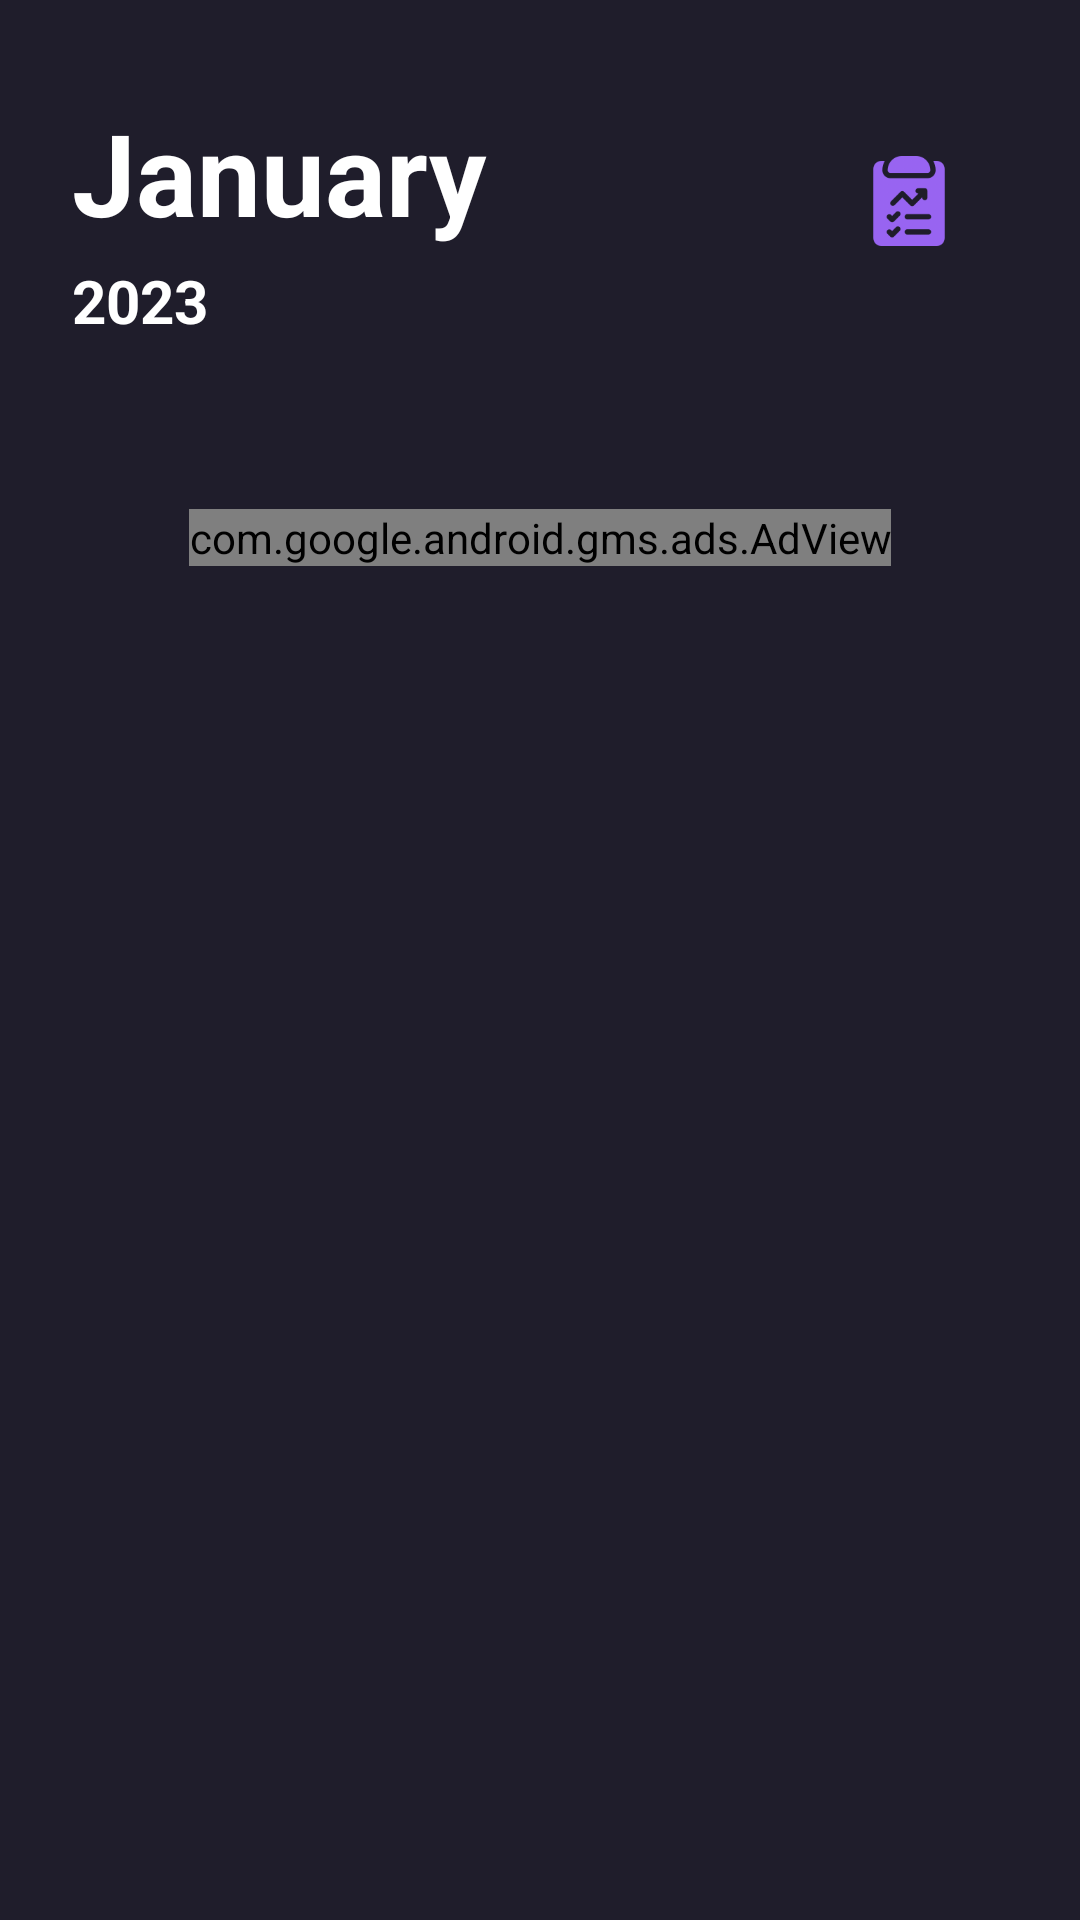

Named icons in this screenshot (1080px x 1920px) and their bounding boxes, (x1, y1, x2, y2):
report: (873, 156, 945, 246)
